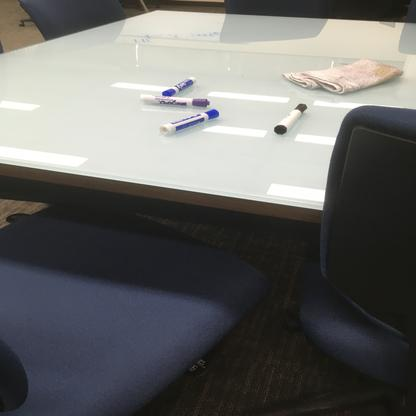expo_marker: (159, 107, 222, 136), (269, 99, 309, 140), (140, 90, 213, 112), (160, 73, 200, 101)
